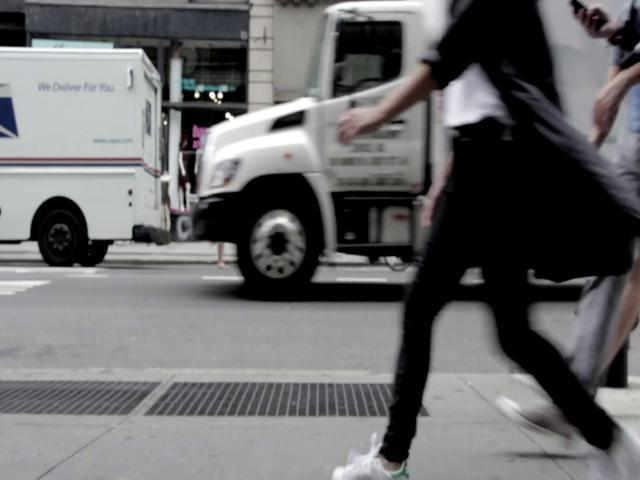shoe: (496, 397, 573, 447), (332, 451, 410, 479)
